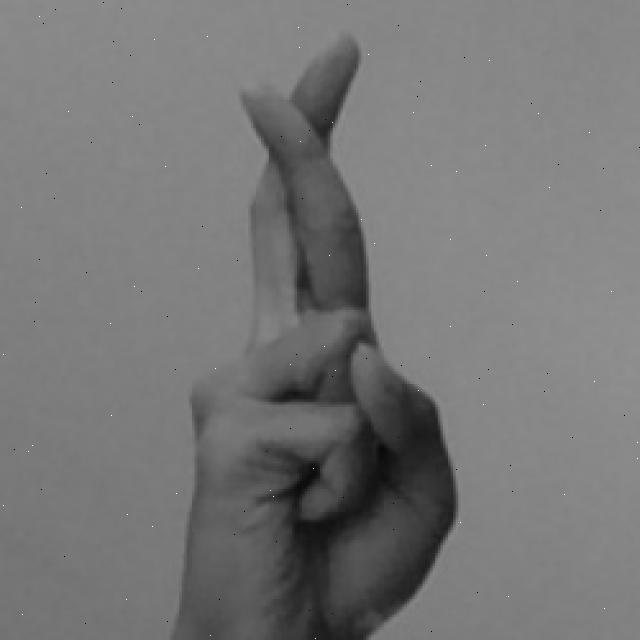R: (153, 25, 463, 640)
